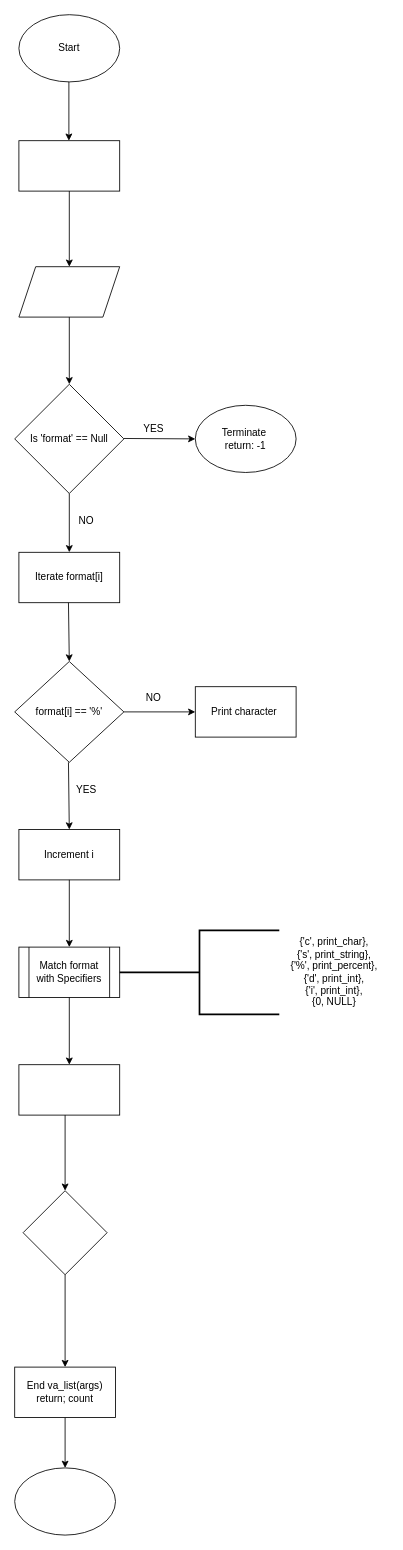
This 403x1550 diagram has some shape labels left out. Each missing label, with the centre of its shape:
END: (x=65, y=1501)
format[i] == '\0': (x=64, y=1232)
Initialize `i = 0, count = 0` Define `specifiers[]` Start `va_list args: (x=69, y=165)
Input 'format': (x=69, y=291)
Print format[i] i++: (x=69, y=1089)
